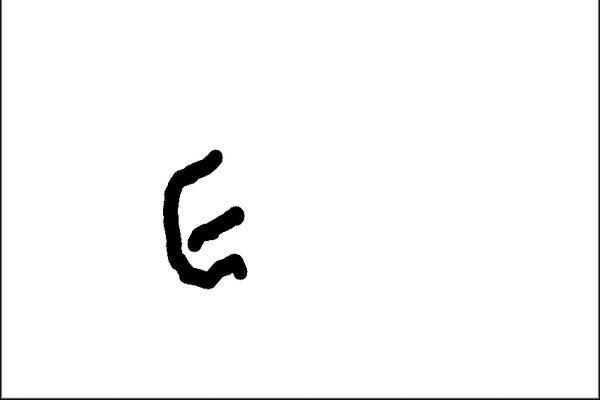E: (155, 143, 253, 292)
